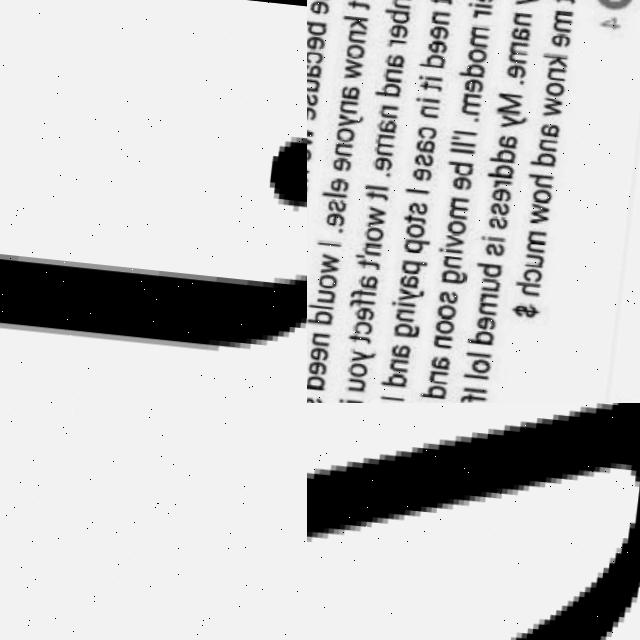4: (598, 14, 623, 30)
A: (4, 448, 307, 640), (359, 274, 381, 290), (510, 26, 532, 42), (340, 84, 361, 100), (384, 52, 405, 68), (415, 137, 435, 153), (400, 272, 420, 288), (391, 343, 411, 359), (432, 354, 452, 370), (498, 134, 518, 150), (540, 121, 560, 137), (376, 118, 398, 132), (307, 62, 321, 78)
B: (447, 159, 475, 176), (384, 7, 411, 24), (476, 261, 503, 278), (307, 18, 328, 35)
C: (353, 320, 374, 336), (417, 123, 437, 139), (524, 266, 544, 282), (307, 48, 324, 64)
D: (307, 403, 640, 640), (488, 146, 516, 164), (468, 328, 496, 346), (374, 80, 402, 97), (420, 51, 447, 68), (459, 61, 486, 78), (420, 382, 447, 399), (530, 150, 557, 167), (488, 162, 515, 178), (308, 309, 333, 325), (383, 371, 407, 386), (307, 372, 325, 389)
E: (374, 153, 395, 170), (331, 155, 353, 171), (387, 22, 409, 38), (354, 305, 376, 321), (427, 38, 449, 54), (329, 176, 350, 192), (325, 210, 346, 226), (309, 345, 330, 361), (308, 360, 329, 376), (429, 24, 450, 40), (506, 62, 527, 78), (308, 0, 330, 15), (413, 165, 433, 181), (463, 76, 483, 92), (453, 175, 473, 191), (492, 186, 512, 202), (477, 315, 497, 331), (552, 32, 572, 48), (307, 33, 326, 49), (307, 104, 317, 120), (307, 145, 312, 161)
F: (350, 287, 378, 298), (348, 296, 375, 307), (461, 392, 488, 403)
G: (393, 321, 421, 338), (441, 268, 468, 285)
H: (513, 279, 541, 296), (526, 172, 553, 189)
I: (438, 246, 465, 254), (392, 300, 418, 308), (405, 186, 429, 194), (381, 394, 404, 402), (365, 183, 389, 190), (417, 95, 440, 102), (318, 239, 341, 246), (467, 2, 493, 8), (339, 397, 363, 403), (466, 386, 489, 392), (454, 129, 478, 134), (482, 235, 505, 240), (420, 76, 443, 80)
J: (0, 79, 307, 403)
K: (342, 14, 370, 31), (542, 51, 566, 67)
L: (321, 191, 347, 197), (451, 140, 477, 146), (308, 302, 334, 308), (465, 372, 489, 378), (467, 352, 491, 356), (452, 148, 475, 152)
M: (497, 90, 523, 114), (468, 22, 489, 48), (374, 133, 396, 156), (552, 9, 574, 32), (526, 229, 548, 252), (508, 40, 529, 63), (448, 196, 469, 218), (461, 91, 481, 114), (390, 0, 413, 8)
N: (378, 102, 399, 119), (337, 98, 358, 114), (311, 330, 332, 346), (362, 240, 383, 256), (538, 136, 559, 152), (333, 141, 354, 157), (345, 27, 367, 42), (433, 332, 453, 348), (430, 368, 450, 384), (547, 65, 567, 81), (444, 252, 463, 268), (513, 10, 532, 26), (479, 300, 498, 316), (390, 357, 410, 372), (421, 102, 438, 119), (384, 66, 402, 82), (432, 8, 449, 24), (397, 306, 414, 322)
O: (345, 42, 366, 58), (335, 125, 356, 141), (317, 272, 338, 288), (364, 225, 385, 241), (348, 361, 369, 377), (544, 80, 565, 96), (406, 221, 426, 237), (468, 46, 488, 62), (446, 218, 466, 234), (436, 303, 456, 319), (436, 317, 456, 333), (472, 357, 492, 373), (534, 187, 554, 203)
P: (403, 237, 430, 254), (402, 258, 429, 275)
R: (471, 8, 491, 20), (480, 291, 500, 301), (493, 178, 512, 188), (388, 37, 405, 47)
S: (326, 197, 348, 213), (489, 213, 509, 230), (490, 200, 511, 216), (414, 151, 434, 167), (408, 200, 428, 216), (438, 288, 458, 304), (486, 240, 506, 256), (307, 92, 319, 106), (307, 394, 324, 403)
T: (357, 256, 381, 268), (421, 79, 443, 91), (348, 332, 373, 342), (403, 212, 427, 222), (366, 188, 388, 198), (346, 0, 370, 8), (430, 0, 452, 4), (553, 0, 575, 3)
U: (346, 376, 368, 392), (481, 276, 502, 292), (525, 252, 545, 268), (317, 288, 336, 304), (307, 76, 321, 92)
V: (445, 233, 464, 249)
W: (342, 56, 365, 80), (365, 204, 387, 227), (542, 94, 564, 117), (318, 252, 340, 274), (530, 200, 551, 223), (307, 125, 315, 147)
Y: (499, 112, 528, 129), (397, 286, 425, 303), (350, 346, 377, 362), (337, 112, 365, 127), (514, 0, 541, 5)
